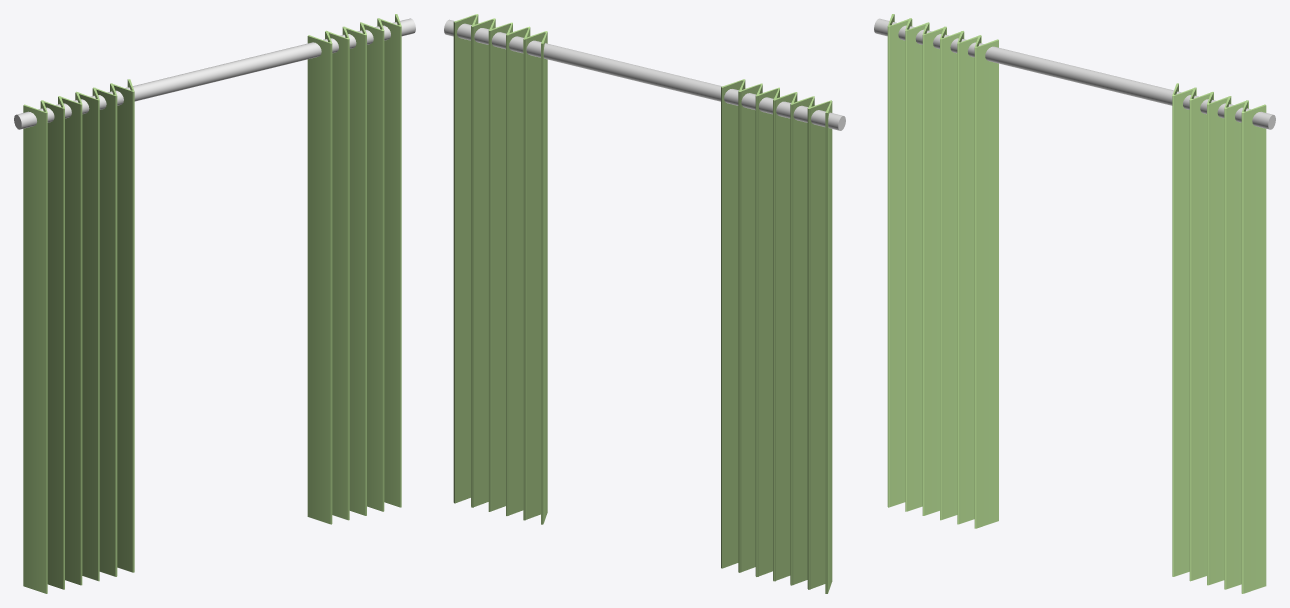
Rendered from Courtain.fbx.
3 views of the same model, side by side, from view 1: azimuth 30°, elevation 25°; view 2: azimuth 150°, elevation 25°; view 3: azimuth 330°, elevation 25° (orthographic).
Visible parts, largest first — view 1: Courtain, Courtain.001, Stick; view 2: Courtain, Courtain.001, Stick; view 3: Courtain, Courtain.001, Stick.
Part boxes in pixels (<box>): Courtain: <box>23,79,134,593</box>; Courtain.001: <box>307,14,401,524</box>; Stick: <box>14,18,415,129</box>; Courtain: <box>721,79,832,593</box>; Courtain.001: <box>453,14,547,524</box>; Stick: <box>444,19,845,130</box>; Courtain: <box>887,14,998,528</box>; Courtain.001: <box>1172,83,1266,593</box>; Stick: <box>874,18,1275,129</box>.
Bounding box in the file's own units: 553 × 644 × 35.76.
